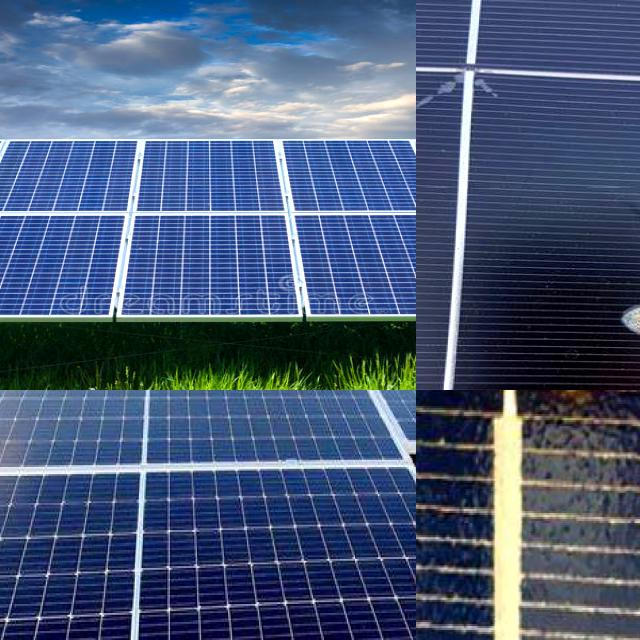crack: (128, 454, 416, 640), (52, 200, 336, 322), (135, 390, 413, 484), (0, 390, 196, 512), (237, 199, 416, 327), (109, 139, 317, 225), (262, 138, 416, 227), (0, 142, 160, 221)
shadow: (463, 390, 612, 479), (416, 57, 502, 198), (591, 296, 640, 353)
